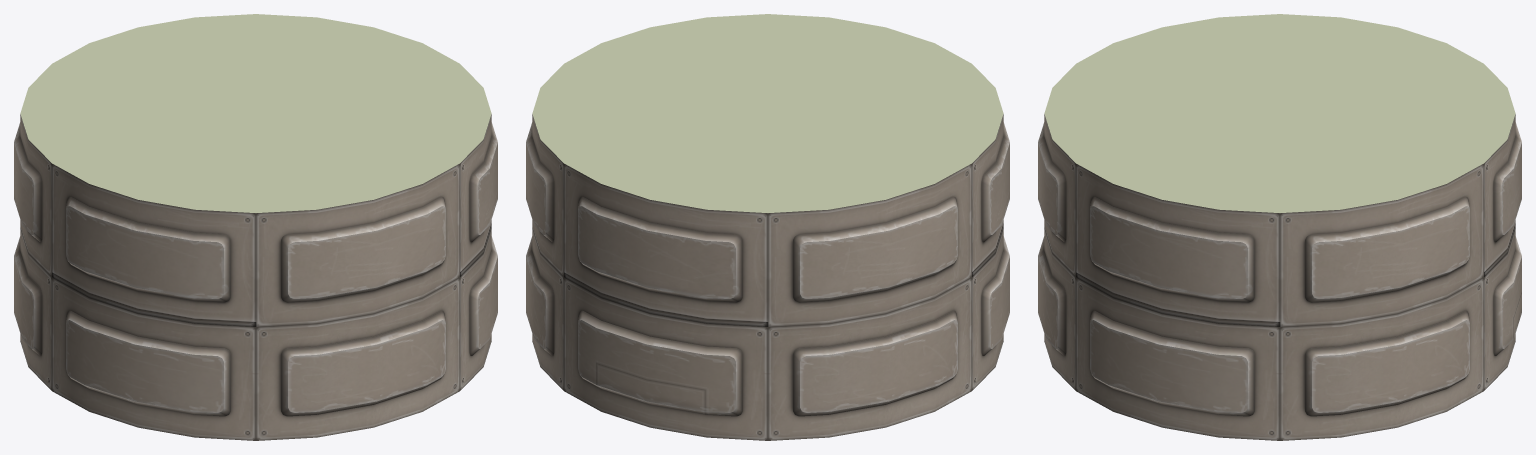
Rendered from regulus_fuselage_s1p5_1.obj.
3 renders of one model, left to right at view 1: azimuth 30°, elevation 25°; view 2: azimuth 150°, elevation 25°; view 3: azimuth 270°, elevation 25°, orthographic.
Parts seen in each view (by area): view 1: regulus_fuselage_s1p5_1_regulus_fuselage_s1p5_1_auv, regulus_fuselage_s1p5_1_default; view 2: regulus_fuselage_s1p5_1_regulus_fuselage_s1p5_1_auv, regulus_fuselage_s1p5_1_default; view 3: regulus_fuselage_s1p5_1_regulus_fuselage_s1p5_1_auv, regulus_fuselage_s1p5_1_default.
Boxes of the visible parts, x1,y1,x2,y2 form: regulus_fuselage_s1p5_1_regulus_fuselage_s1p5_1_auv: [14, 114, 497, 440]; regulus_fuselage_s1p5_1_default: [20, 14, 491, 212]; regulus_fuselage_s1p5_1_regulus_fuselage_s1p5_1_auv: [526, 114, 1009, 440]; regulus_fuselage_s1p5_1_default: [532, 14, 1003, 212]; regulus_fuselage_s1p5_1_regulus_fuselage_s1p5_1_auv: [1038, 114, 1521, 440]; regulus_fuselage_s1p5_1_default: [1044, 14, 1515, 212].
Size of the model in its own units: 1.89 by 1 by 1.93.
